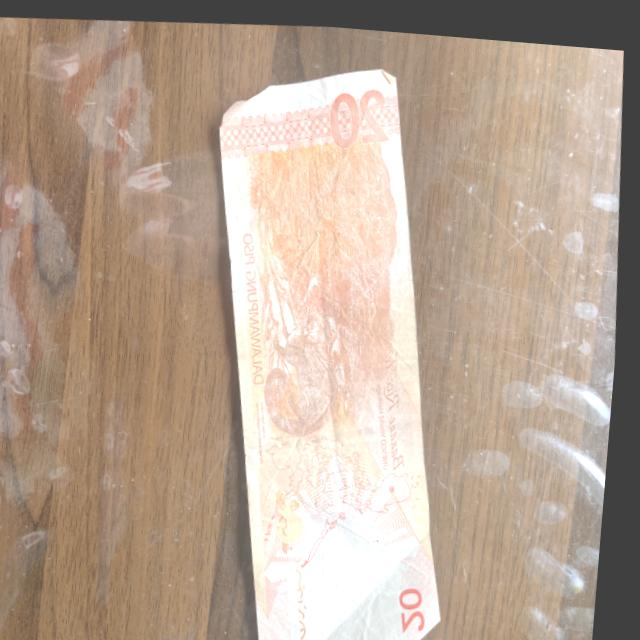20_civet: (257, 305, 355, 434)
20_civet_watermark: (281, 483, 317, 542)
